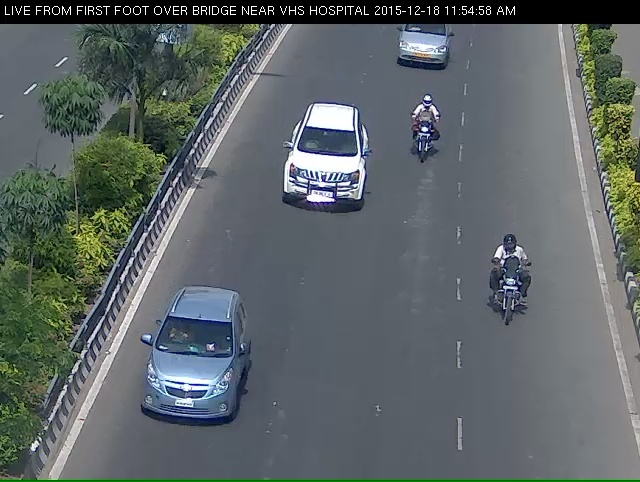Car: (133, 311, 245, 451), (273, 115, 371, 237), (384, 21, 467, 79)
Person: (480, 234, 539, 348), (400, 106, 445, 170)
